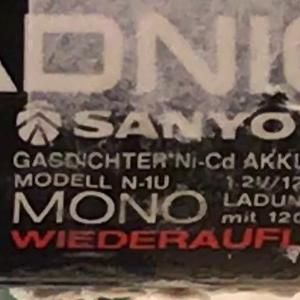NI-CD: (159, 144, 244, 170)
